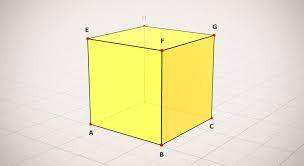cubos: (82, 19, 226, 154)
